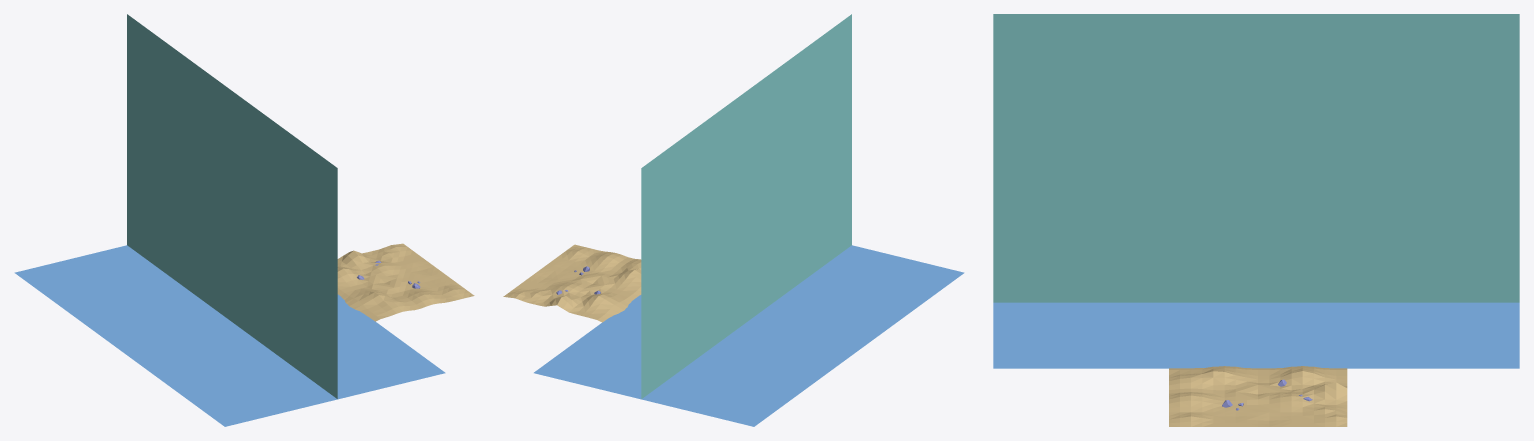
Rendered from Beach.fbx.
The picture shows the model from 3 angles, left to right: view 1: azimuth 30°, elevation 25°; view 2: azimuth 150°, elevation 25°; view 3: azimuth 270°, elevation 25°; orthographic projection. The views are drawn at different scales.
Parts seen in each view (by area): view 1: Sky, Water, Beach; view 2: Sky, Water, Beach; view 3: Sky, Water, Beach.
Boxes of the visible parts, bbox=[...] form: Sky: bbox=[127, 14, 337, 398]; Water: bbox=[14, 245, 445, 426]; Beach: bbox=[337, 243, 474, 321]; Sky: bbox=[641, 14, 851, 398]; Water: bbox=[534, 245, 964, 426]; Beach: bbox=[503, 244, 641, 322]; Sky: bbox=[993, 14, 1519, 302]; Water: bbox=[993, 302, 1519, 368]; Beach: bbox=[1169, 366, 1347, 426].
Size of the model in its own units: 70149 by 49189 by 80000.
